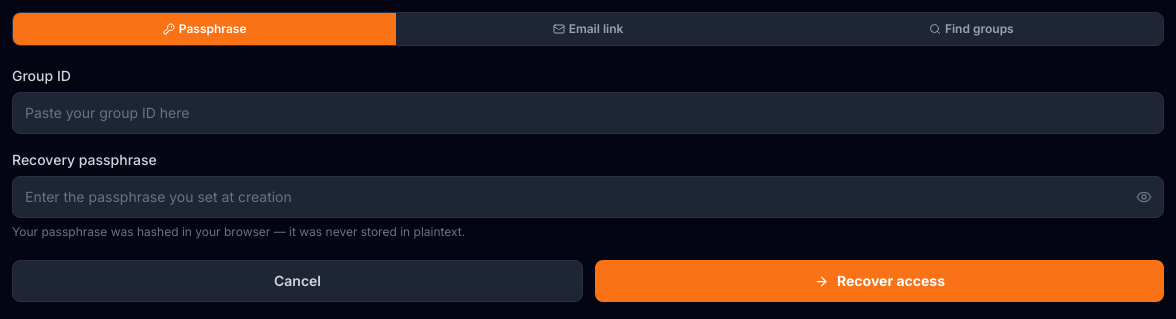
Test: RecoverAdminForm › switches to email tab and shows email input
Click the button "Email link" at (588, 29), box [396, 13, 780, 45]
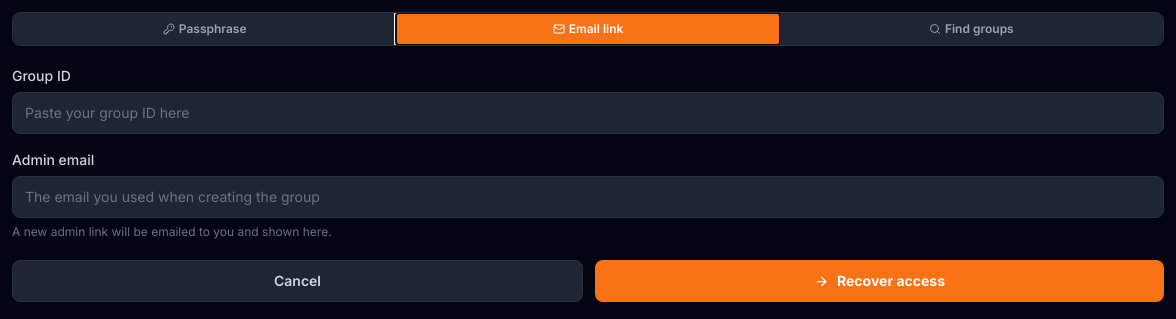
Expected: the field with placeholder "The email you used when creating the group" is shown, [12, 176, 1164, 218]
